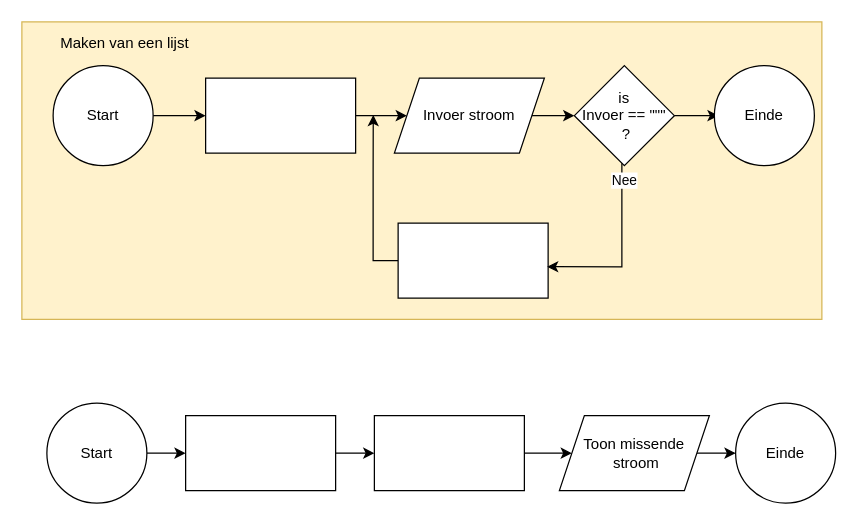
Some shapes in this 858 by 525 pixel diagram are drawn without their labels. The shapes that lost their labels are listed below. From the top down, each one's centre as x and y in pixels, then its label:
the point at 280,115: Maak lege lijst aan
the point at 472,260: Getal aan lijst toevoegen
the point at 260,452: MaakLijstFloat
the point at 448,452: Bereken Kirchhoff
